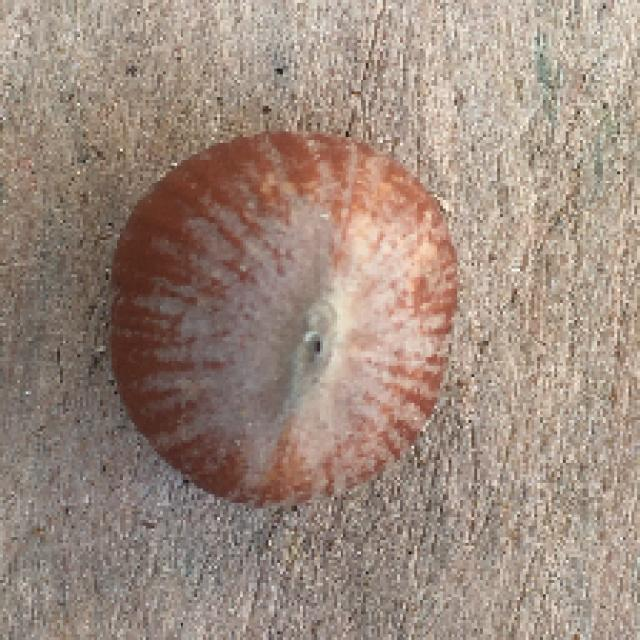qualityHazelnut: (109, 133, 467, 513)
